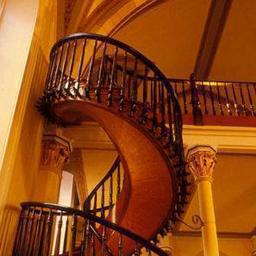Escaleras: (43, 41, 196, 254)
